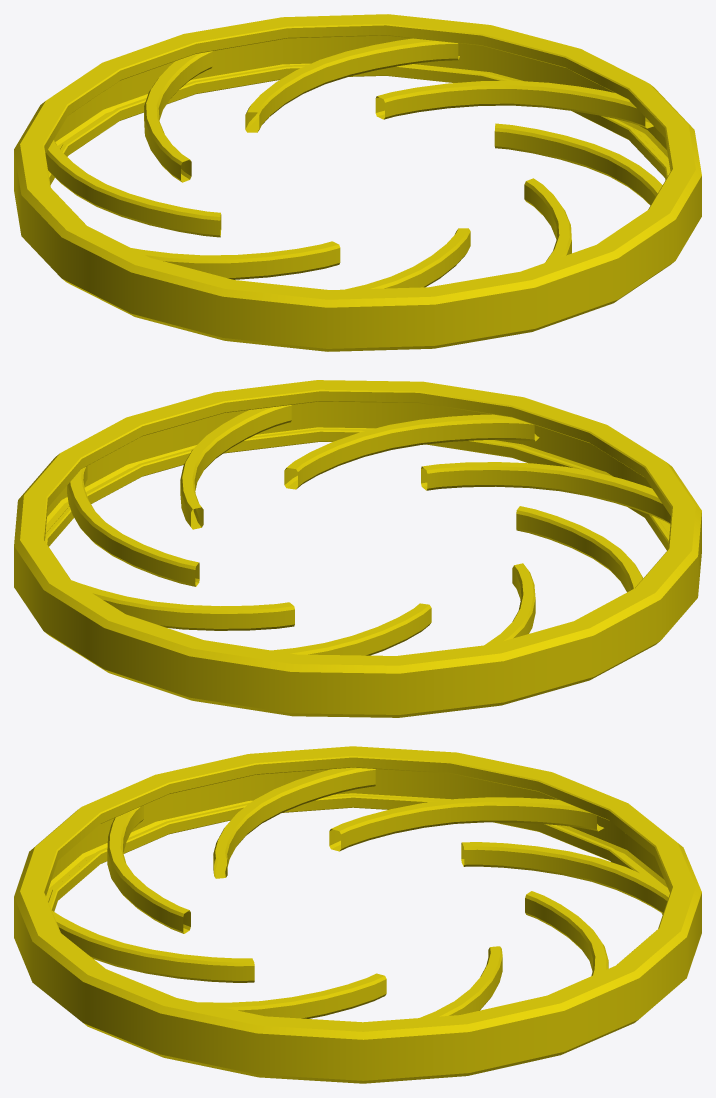
The model's file is Fly Wheel.fbx.
3 renders of one model, top to bottom at view 1: azimuth 30°, elevation 25°; view 2: azimuth 150°, elevation 25°; view 3: azimuth 270°, elevation 25°, orthographic.
Parts seen in each view (by area): view 1: Fly_Wheel; view 2: Fly_Wheel; view 3: Fly_Wheel.
Part boxes in pixels (box(x1,y1,x2,y2)): Fly_Wheel: box(14, 14, 701, 351); Fly_Wheel: box(14, 380, 701, 717); Fly_Wheel: box(14, 746, 701, 1083).
Bounding box in the file's own units: 150 × 12.51 × 150.
